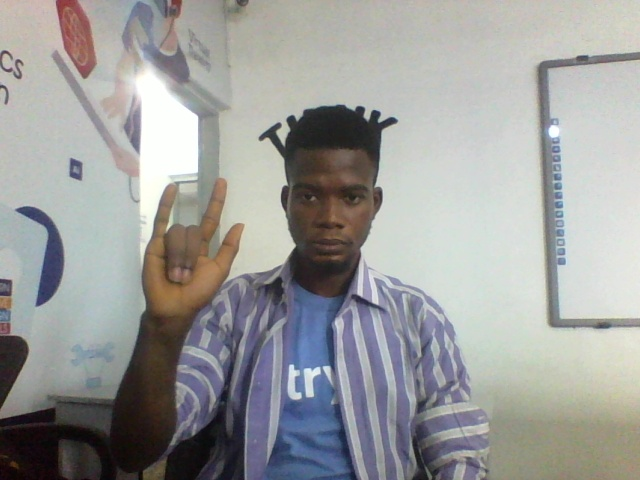i_love_you: (138, 175, 246, 346)
